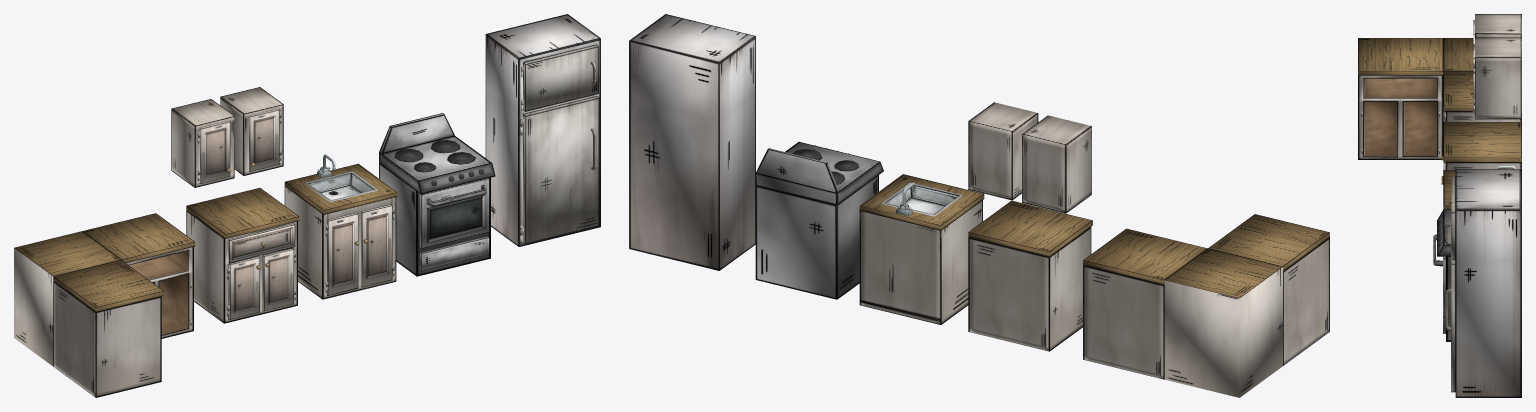
Rendered from KitchenElements.fbx.
3 views of the same model, side by side, from view 1: azimuth 30°, elevation 25°; view 2: azimuth 150°, elevation 25°; view 3: azimuth 270°, elevation 25° (orthographic). The views are drawn at different scales.
Parts seen in each view (by area): view 1: KitchenElement_CornerSet, KitchenElement_Oven, KitchenElement_Refrigerator, KitchenElement_Refrigerator_BigDoor, KitchenElement_WithSink, KitchenElement_Regular, KitchenElement_Refrigerator_SmallDoor, KitchenElement_Regular_Top_L, KitchenElement_Regular_Top_R, KitchenElement_CabinetDoor_Sink_L, KitchenElement_CabinetDoor_Sink_R, KitchenElement_TopCabinetDoor_L (+4 smaller); view 2: KitchenElement_CornerSet, KitchenElement_Refrigerator, KitchenElement_Oven, KitchenElement_Regular, KitchenElement_WithSink, KitchenElement_Regular_Top_L, KitchenElement_Regular_Top_R; view 3: KitchenElement_Refrigerator, KitchenElement_CornerSet, KitchenElement_Regular_Top_R, KitchenElement_Regular, KitchenElement_Oven, KitchenElement_Regular_Top_L, KitchenElement_Refrigerator_BigDoor, KitchenElement_Refrigerator_SmallDoor, KitchenElement_WithSink.
Part boxes in pixels (x1=…): KitchenElement_CornerSet: x1=14, y1=213, x2=195, y2=397; KitchenElement_Oven: x1=379, y1=113, x2=495, y2=276; KitchenElement_Refrigerator: x1=485, y1=14, x2=600, y2=246; KitchenElement_Refrigerator_BigDoor: x1=520, y1=96, x2=599, y2=243; KitchenElement_WithSink: x1=284, y1=154, x2=397, y2=299; KitchenElement_Regular: x1=186, y1=188, x2=299, y2=323; KitchenElement_Refrigerator_SmallDoor: x1=521, y1=44, x2=598, y2=111; KitchenElement_Regular_Top_L: x1=171, y1=99, x2=234, y2=187; KitchenElement_Regular_Top_R: x1=220, y1=87, x2=283, y2=175; KitchenElement_CabinetDoor_Sink_L: x1=325, y1=213, x2=358, y2=295; KitchenElement_CabinetDoor_Sink_R: x1=361, y1=204, x2=394, y2=287; KitchenElement_TopCabinetDoor_L: x1=197, y1=121, x2=231, y2=183; KitchenElement_CornerSet: x1=1083, y1=214, x2=1329, y2=397; KitchenElement_Refrigerator: x1=629, y1=14, x2=755, y2=270; KitchenElement_Oven: x1=755, y1=142, x2=883, y2=299; KitchenElement_Regular: x1=968, y1=200, x2=1092, y2=351; KitchenElement_WithSink: x1=859, y1=174, x2=984, y2=324; KitchenElement_Regular_Top_L: x1=1022, y1=115, x2=1091, y2=213; KitchenElement_Regular_Top_R: x1=968, y1=102, x2=1038, y2=200; KitchenElement_Refrigerator: x1=1455, y1=169, x2=1521, y2=397; KitchenElement_CornerSet: x1=1358, y1=38, x2=1521, y2=159; KitchenElement_Regular_Top_R: x1=1473, y1=37, x2=1521, y2=119; KitchenElement_Regular: x1=1443, y1=122, x2=1521, y2=169; KitchenElement_Oven: x1=1433, y1=209, x2=1451, y2=341; KitchenElement_Regular_Top_L: x1=1475, y1=14, x2=1521, y2=37; KitchenElement_Refrigerator_BigDoor: x1=1444, y1=228, x2=1455, y2=392; KitchenElement_Refrigerator_SmallDoor: x1=1444, y1=176, x2=1455, y2=260; KitchenElement_WithSink: x1=1443, y1=166, x2=1515, y2=209.
Size of the model in its own units: 6.75 by 2.22 by 1.73.
